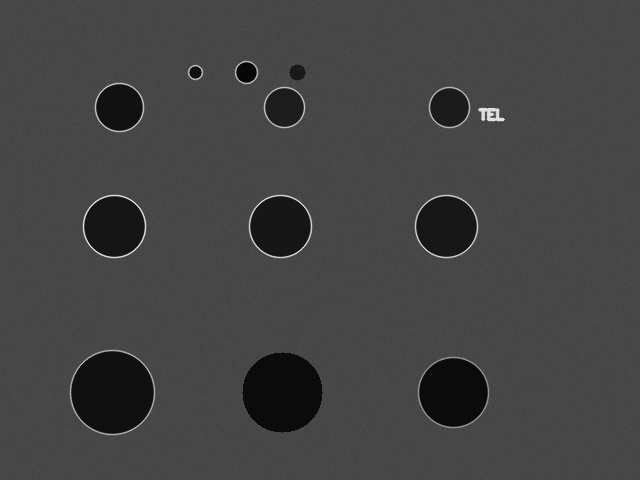hole: (70, 350, 154, 434), (242, 352, 322, 432), (418, 357, 488, 427), (83, 195, 145, 257), (249, 195, 311, 257), (415, 195, 477, 257), (95, 83, 143, 131), (264, 87, 304, 127), (429, 87, 469, 127), (235, 61, 257, 83), (289, 64, 305, 80), (188, 65, 202, 79)
